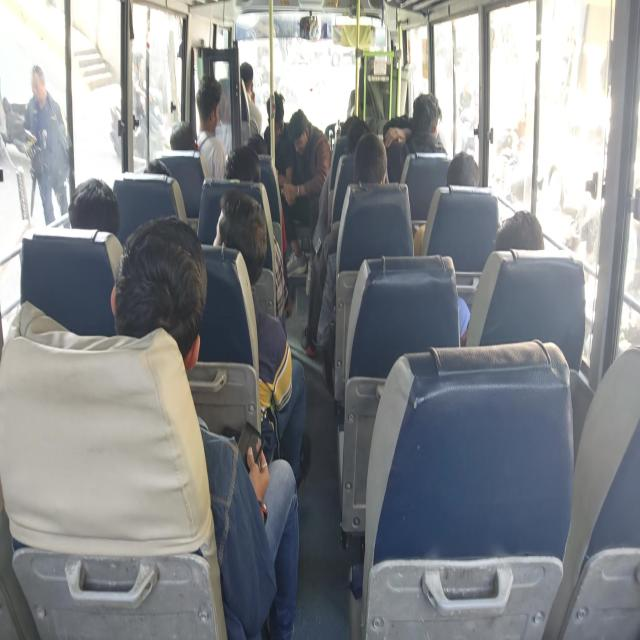person: (110, 216, 300, 638), (212, 188, 308, 489), (315, 132, 389, 390), (222, 144, 291, 336), (458, 210, 544, 346), (278, 108, 332, 274), (22, 64, 70, 226), (413, 150, 480, 255), (384, 92, 446, 182), (195, 74, 226, 180), (68, 177, 120, 236), (263, 91, 294, 181), (495, 210, 544, 252), (240, 61, 262, 135), (223, 144, 261, 182), (446, 150, 480, 187), (169, 120, 194, 150)
